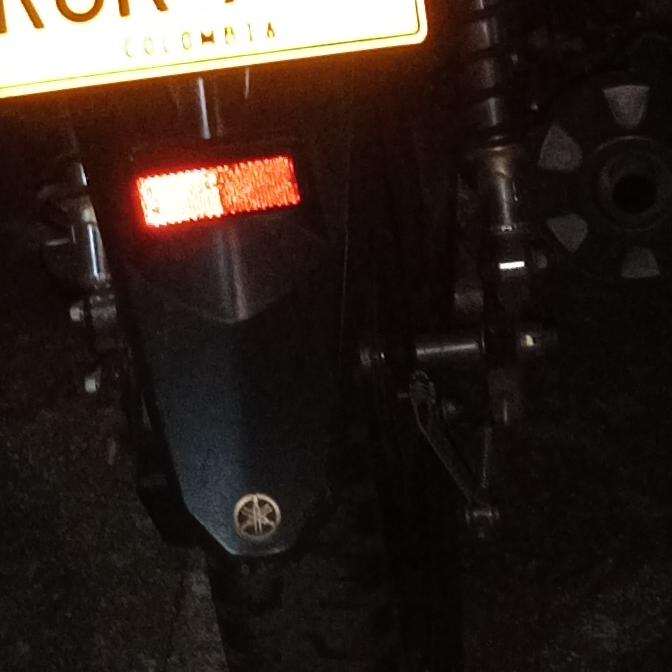plates: (0, 0, 431, 96)
